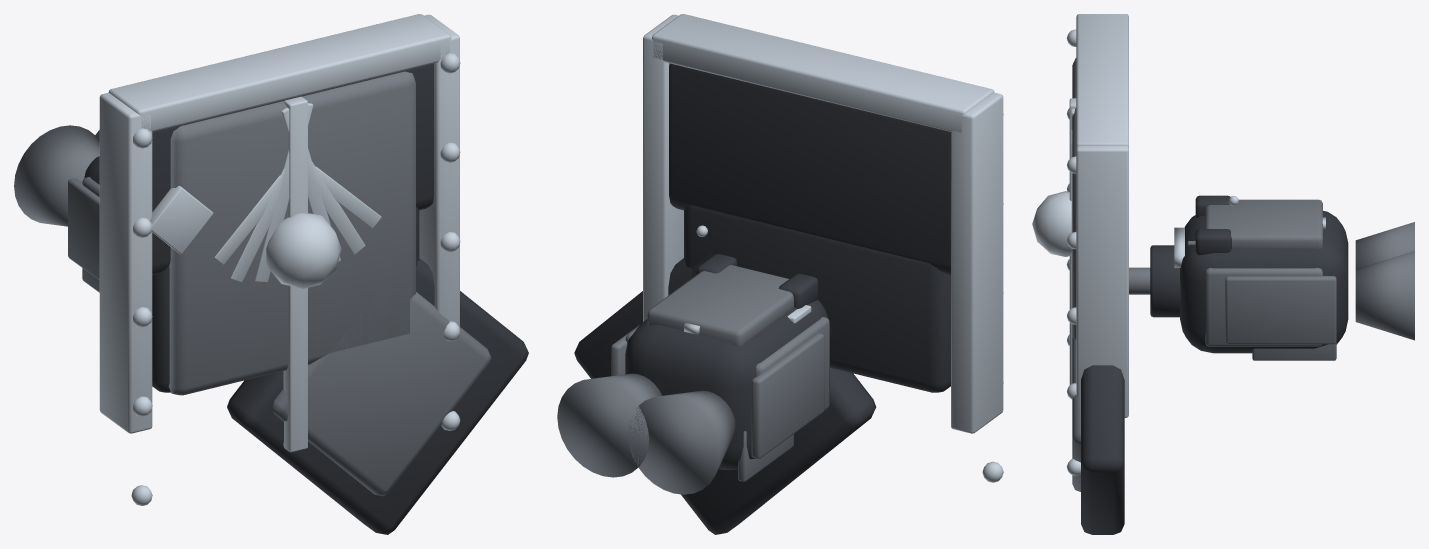
Rendered from weapon_drone_aegis_barrier.glb.
3 renders of one model, left to right at view 1: azimuth 30°, elevation 25°; view 2: azimuth 150°, elevation 25°; view 3: azimuth 270°, elevation 25°, orthographic. The views are drawn at different scales.
Visible parts, largest first — view 1: weapon_drone_aegis_barrier; view 2: weapon_drone_aegis_barrier; view 3: weapon_drone_aegis_barrier.
Boxes of the visible parts, x1,y1,x2,y2 form: weapon_drone_aegis_barrier: (14,14,528,534); weapon_drone_aegis_barrier: (557,14,1003,534); weapon_drone_aegis_barrier: (1032,14,1414,534).
Size of the model in its own units: 1.75 by 2.02 by 1.68.
